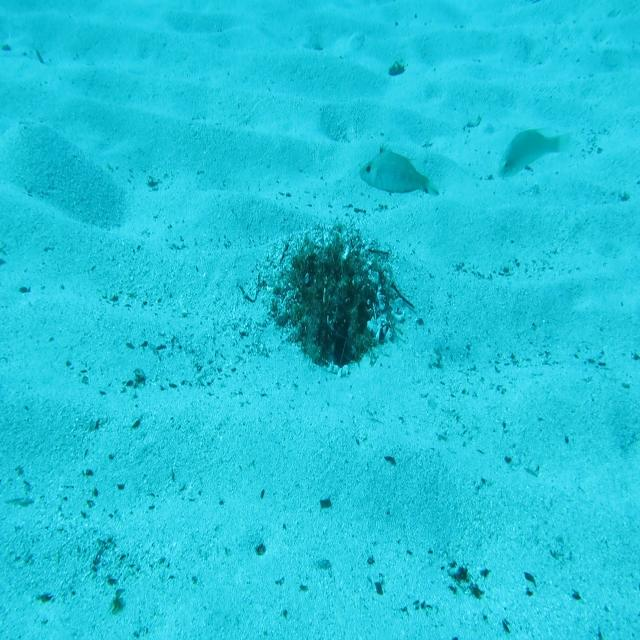BK_SW: (358, 137, 442, 206)
female: (490, 124, 584, 182)
nest: (266, 222, 414, 370)
